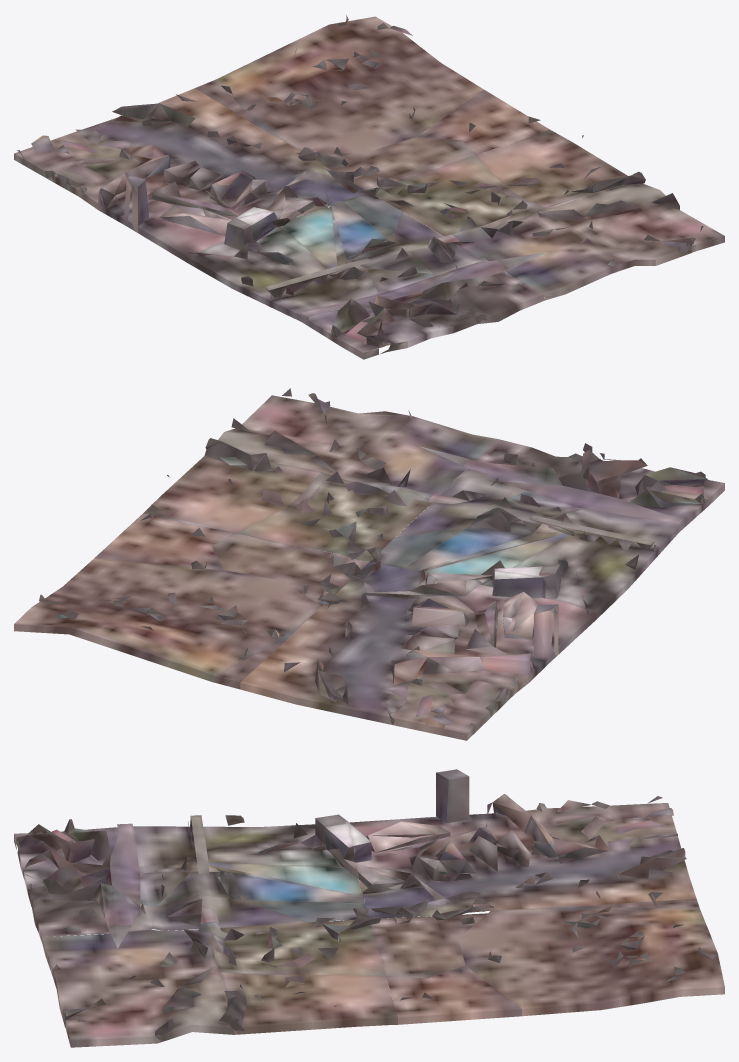
3 renders of one model, top to bottom at view 1: azimuth 30°, elevation 25°; view 2: azimuth 150°, elevation 25°; view 3: azimuth 270°, elevation 25°, orthographic. The views are drawn at different scales.
Visible parts, largest first — view 1: Mesh_0; view 2: Mesh_0; view 3: Mesh_0.
Part boxes in pixels (x1,y1,x2,y2): Mesh_0: (14,15,724,359); Mesh_0: (14,388,724,740); Mesh_0: (14,769,724,1047).
Size of the model in its own units: 532 by 56.7 by 659.
1 material, 1 textured.
